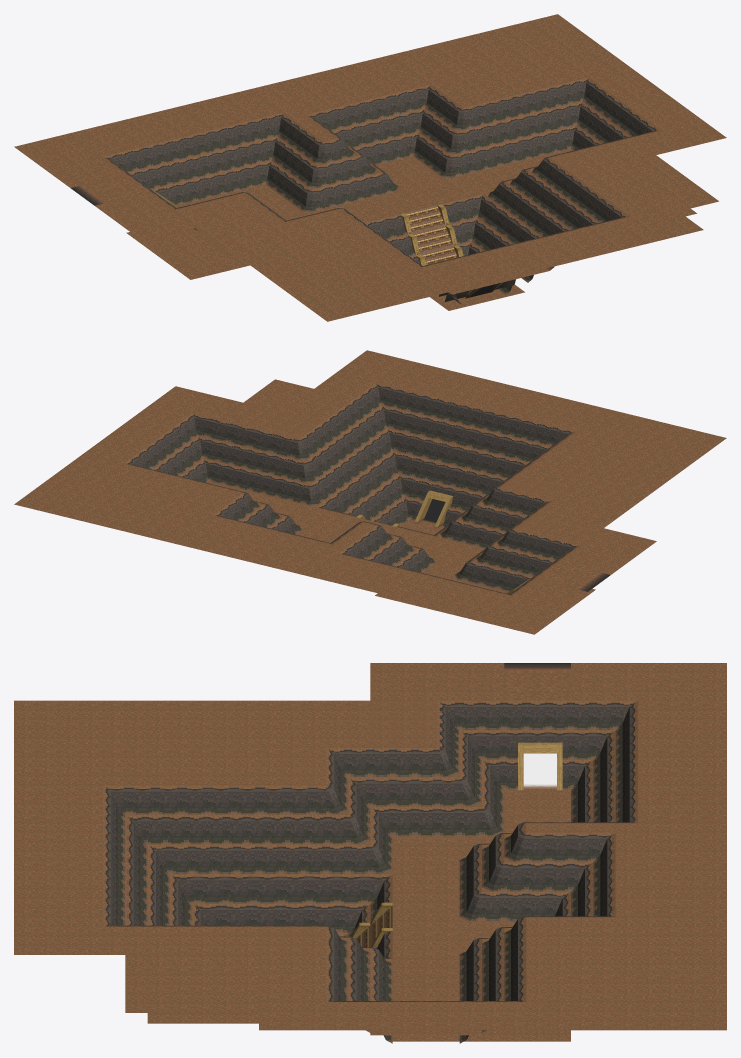
3 renders of one model, top to bottom at view 1: azimuth 30°, elevation 25°; view 2: azimuth 150°, elevation 25°; view 3: azimuth 270°, elevation 25°, orthographic. The views are drawn at different scales.
Parts seen in each view (by area): view 1: polygon0, polygon3, polygon4, polygon2, polygon6, polygon1; view 2: polygon0, polygon3, polygon4, polygon6, polygon5; view 3: polygon0, polygon3, polygon4, polygon6, polygon8, polygon5, polygon2.
Boxes of the visible parts, bbox=[...] form: polygon0: bbox=[14, 14, 726, 321]; polygon3: bbox=[110, 83, 652, 304]; polygon4: bbox=[102, 77, 660, 294]; polygon2: bbox=[404, 205, 457, 264]; polygon6: bbox=[70, 174, 500, 298]; polygon1: bbox=[400, 204, 463, 265]; polygon0: bbox=[14, 350, 726, 634]; polygon3: bbox=[131, 387, 572, 591]; polygon4: bbox=[123, 382, 580, 595]; polygon6: bbox=[422, 499, 610, 591]; polygon5: bbox=[414, 490, 529, 593]; polygon0: bbox=[14, 663, 726, 1041]; polygon3: bbox=[111, 707, 629, 1043]; polygon4: bbox=[103, 700, 637, 1001]; polygon6: bbox=[504, 663, 570, 700]; polygon8: bbox=[523, 753, 556, 788]; polygon5: bbox=[518, 742, 562, 792]; polygon2: bbox=[356, 906, 392, 947].
Size of the model in its own units: 4.88 by 0.75 by 4.
9 materials, 9 textured.
